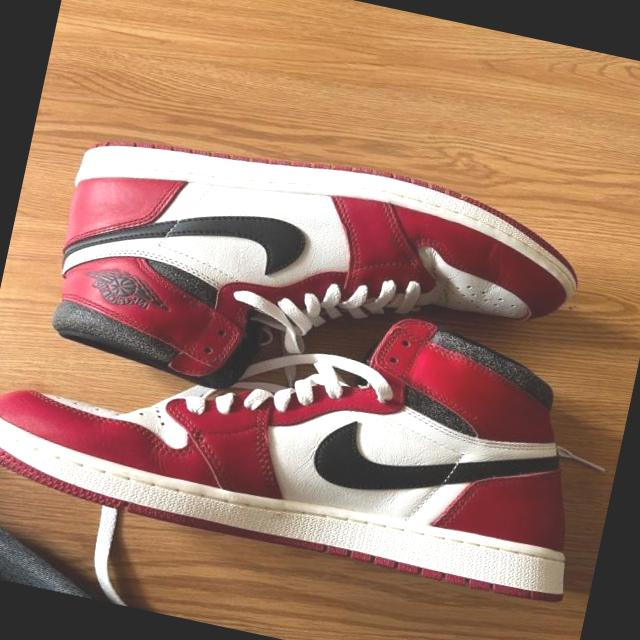nike_original_jordan: (0, 234, 616, 611), (15, 104, 623, 462)
